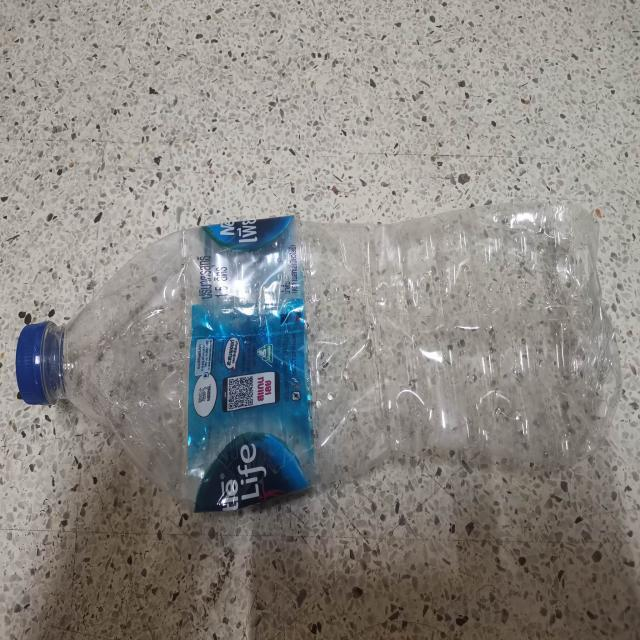plastic_bottle: (11, 203, 622, 517)
